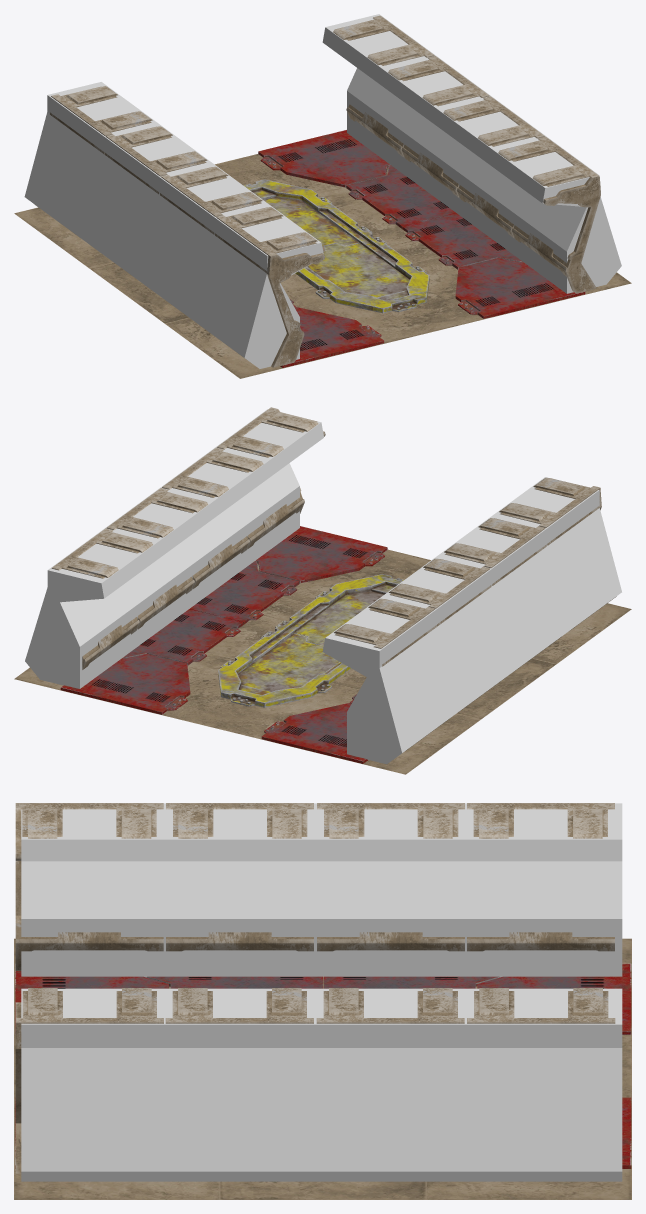
Rendered from modulo_1.gltf.
3 views of the same model, one above another, from view 1: azimuth 30°, elevation 25°; view 2: azimuth 150°, elevation 25°; view 3: azimuth 270°, elevation 25° (orthographic). The views are drawn at different scales.
Parts seen in each view (by area): view 1: FOSO MARCO.001, Modulo1 malla colision; view 2: FOSO MARCO.001, Modulo1 malla colision; view 3: Modulo1 malla colision, FOSO MARCO.001.
Part boxes in pixels (left/top/right/bottom): FOSO MARCO.001: left=14, top=15, right=631, bottom=378; Modulo1 malla colision: left=24, top=14, right=621, bottom=368; FOSO MARCO.001: left=14, top=407, right=631, bottom=774; Modulo1 malla colision: left=25, top=409, right=621, bottom=764; Modulo1 malla colision: left=21, top=803, right=622, bottom=1181; FOSO MARCO.001: left=14, top=803, right=631, bottom=1199.
Bounding box in the file's own units: 12 × 3.51 × 12.
